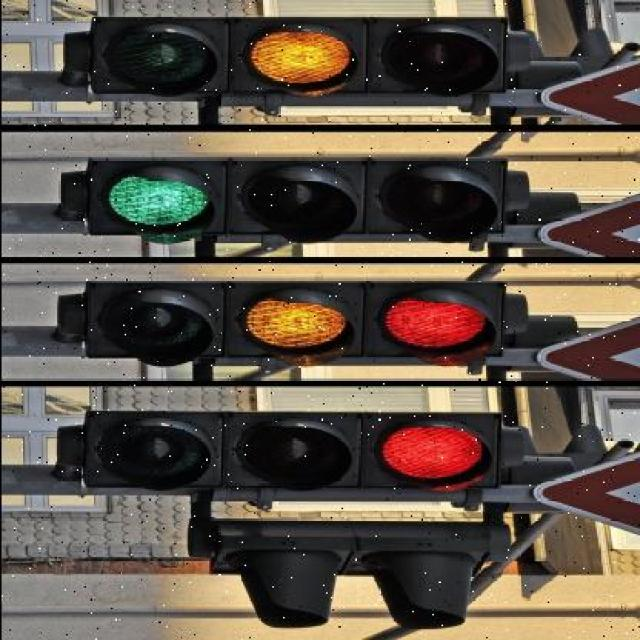green-light: (69, 147, 555, 263)
red-light: (72, 413, 500, 509)
red-yellow-light: (54, 276, 567, 375)
yellow-light: (69, 0, 511, 108)
